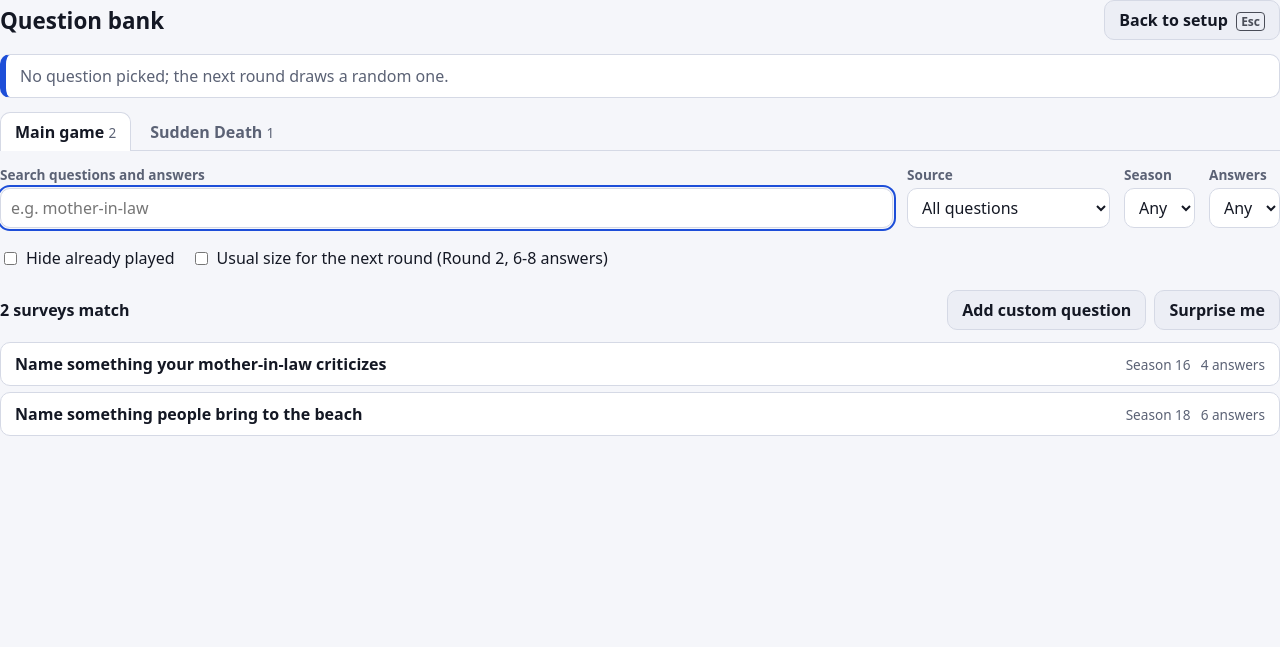
custom questions in the question browser › shows the host's error when it refuses a save
The image size is (1280, 647).
Click the button "Add custom question" at point(1047, 310), box [947,290,1146,330]
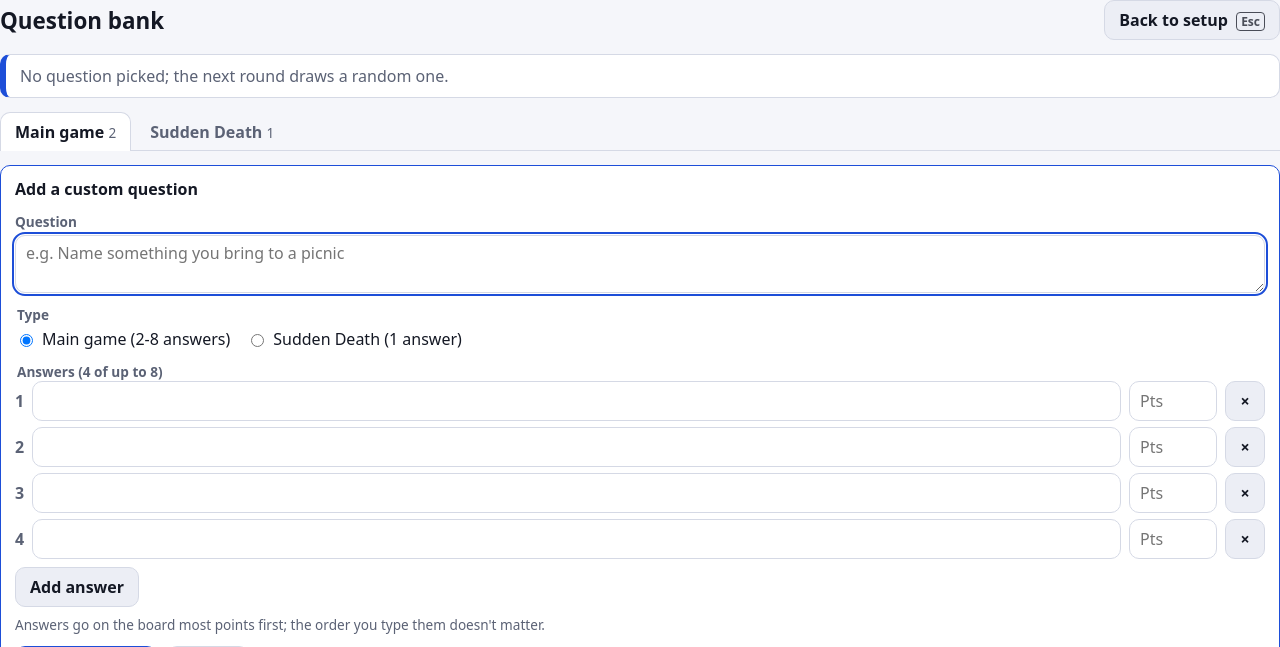
Type "Name a color" into the text box labelled "Question" at point(640, 264), box [15,235,1265,293]
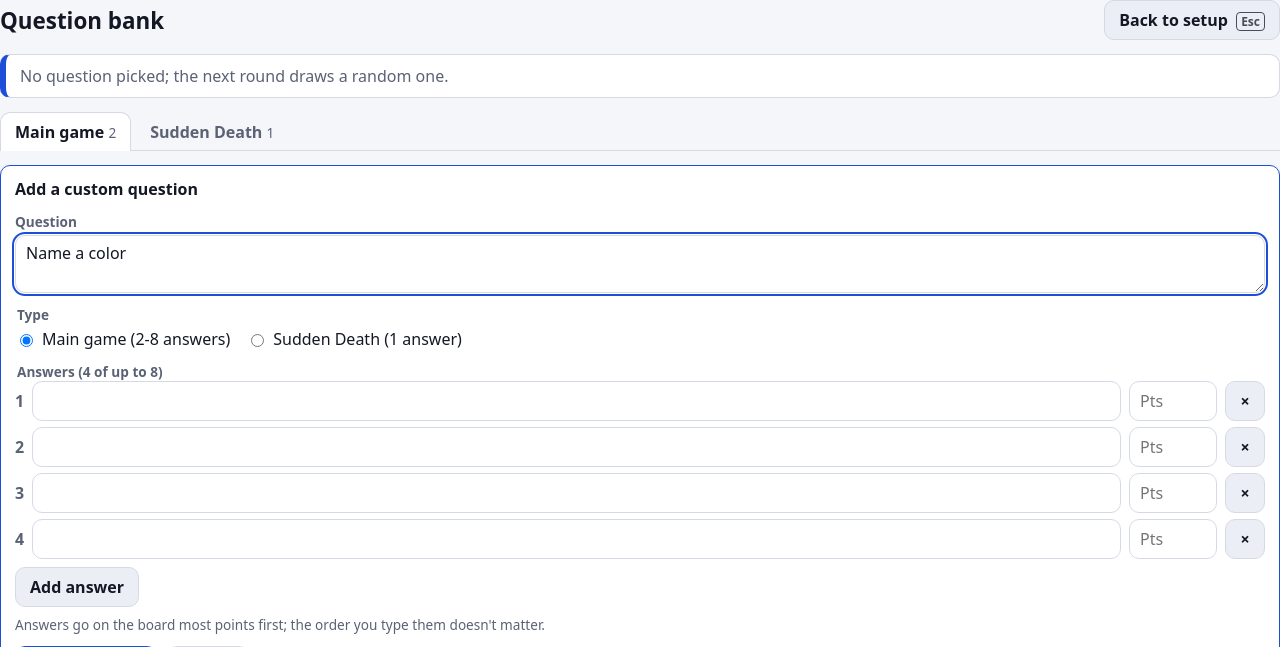
Click the radio button labelled "Sudden Death (1 answer)" at point(258, 340), box [251,334,264,347]
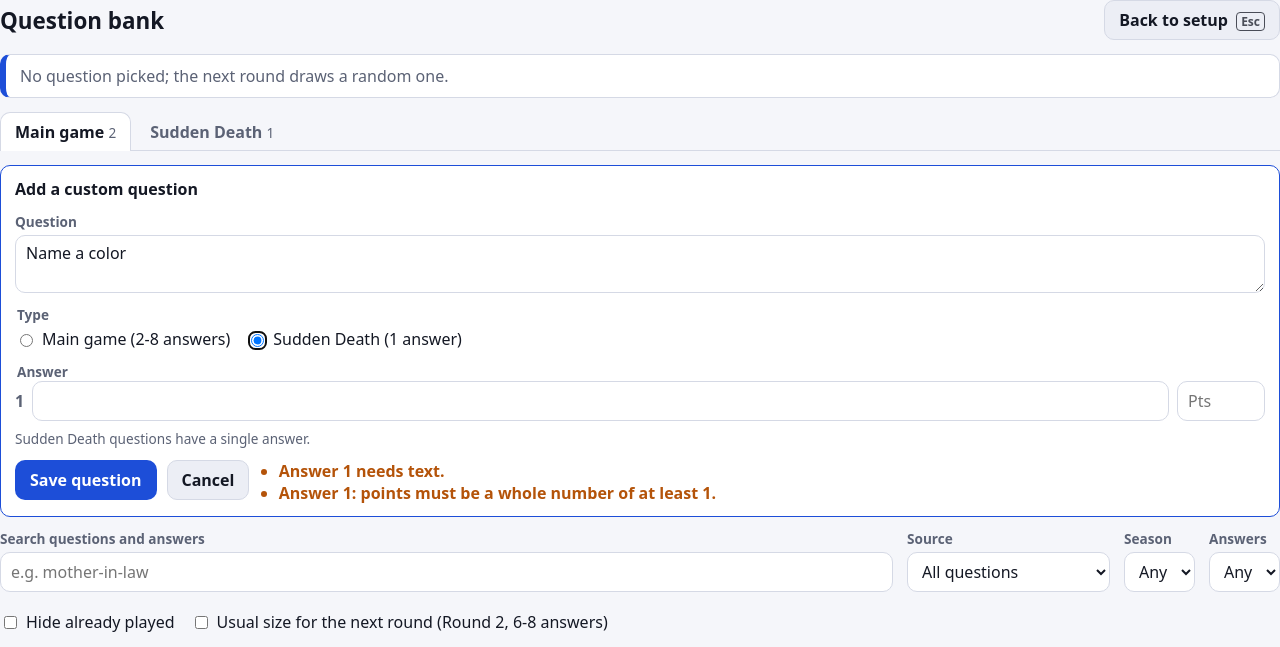
Type "Blue" into the field named "Answer 1" at point(601, 401), box [32,381,1169,421]
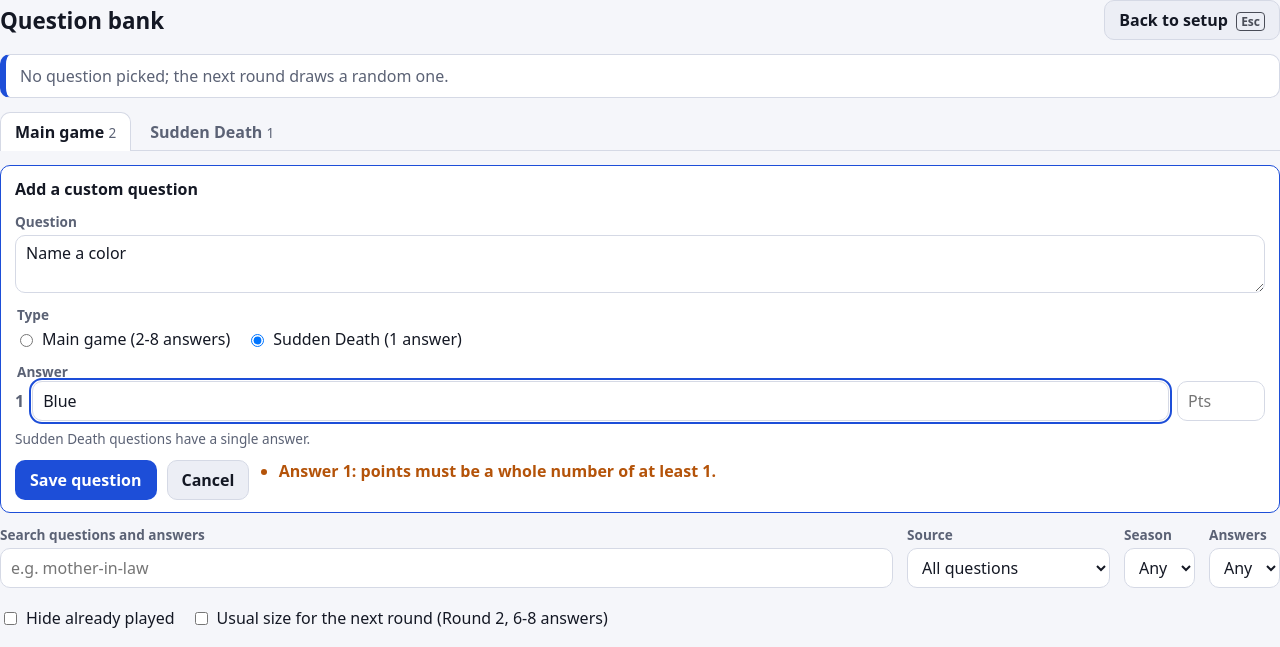
Type "40" into the number field with placeholder "Pts" at point(1221, 401), box [1177,381,1265,421]
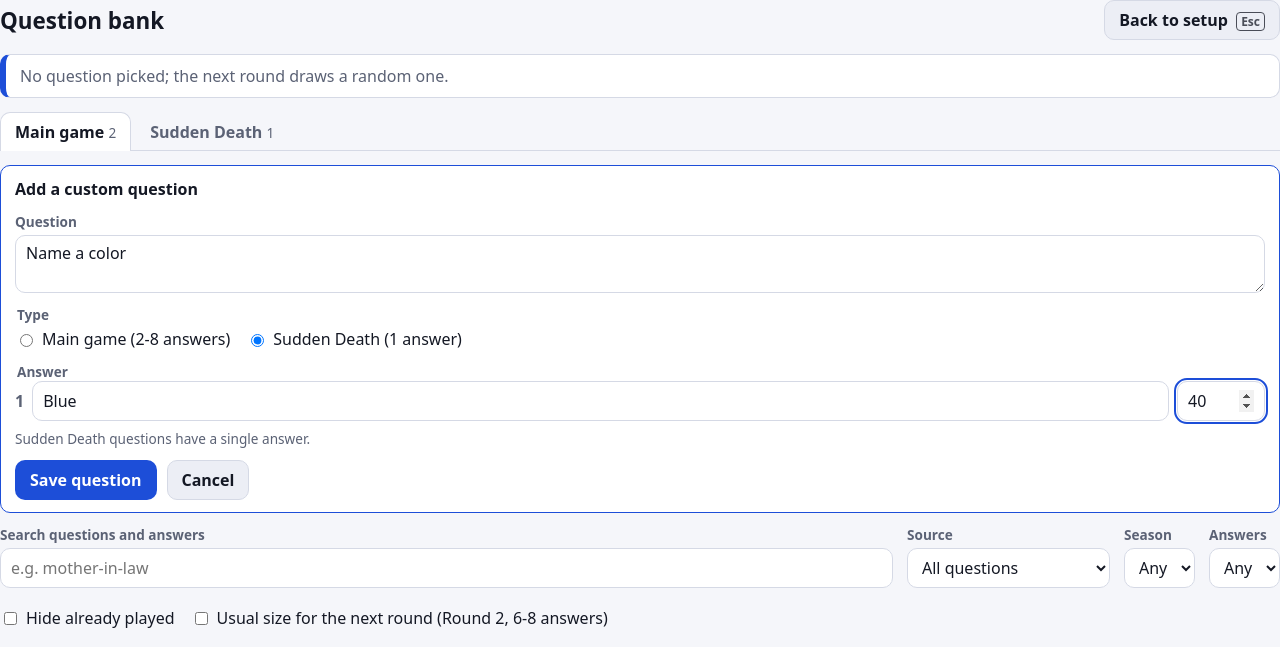
Click the button "Save question" at point(86, 480), box [15,460,156,500]
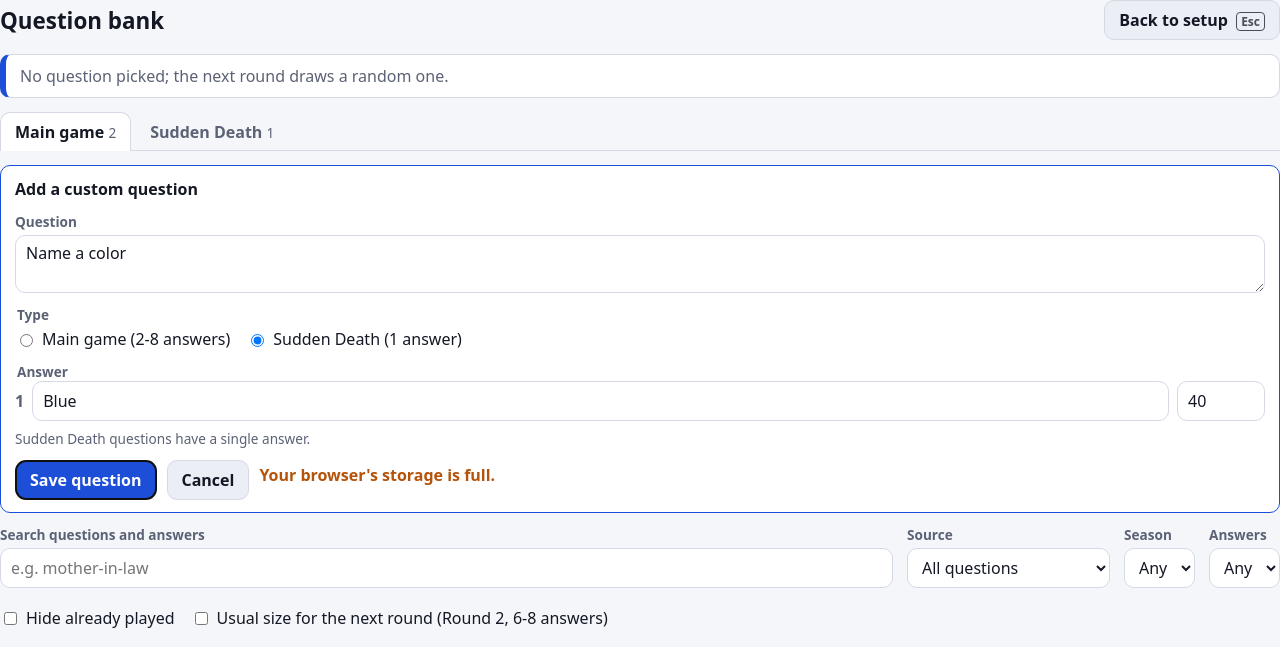
Now the text "Your browser's storage is full." is shown, box [259,464,495,486]
